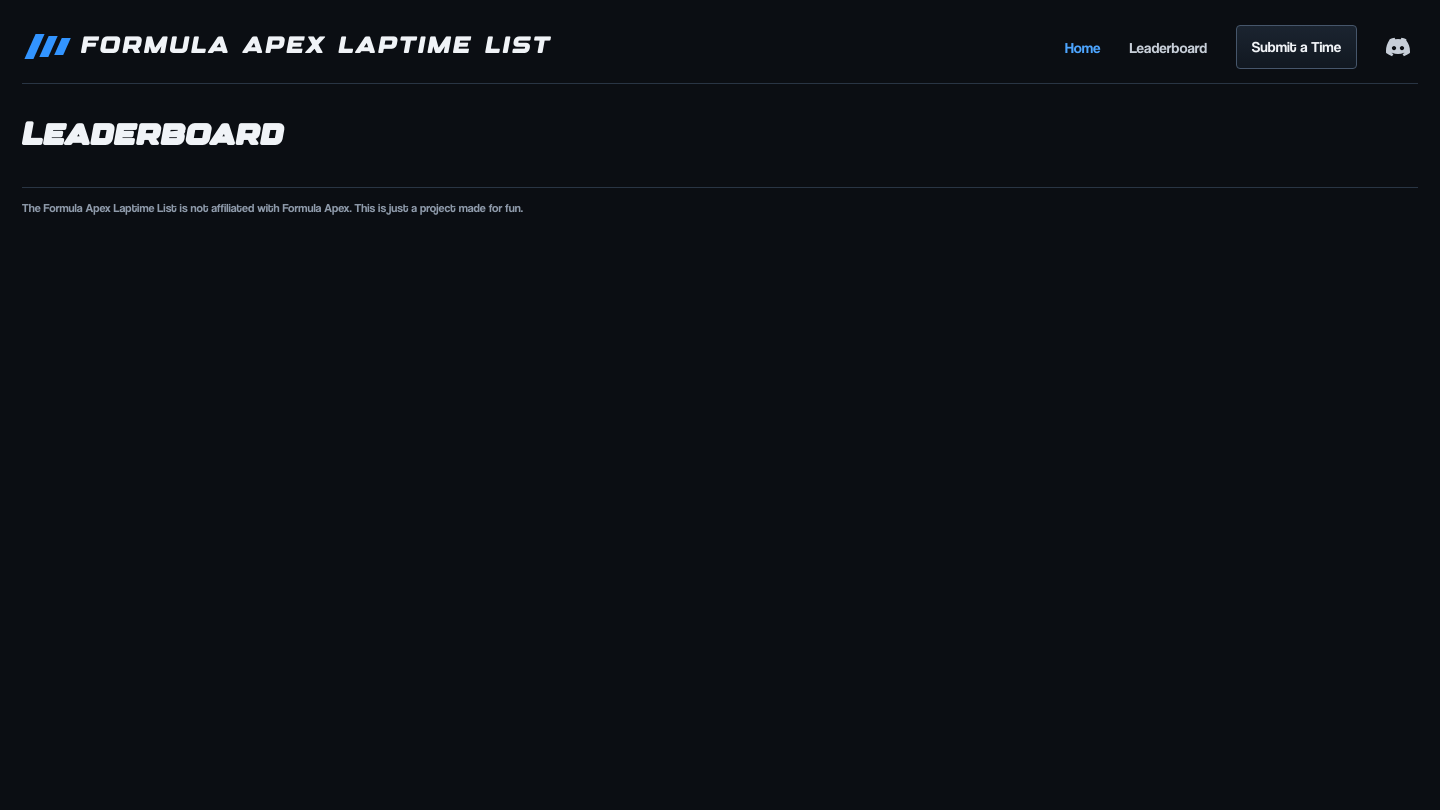
Test: submission flow › navigates from the site header to the submission guidelines
Click the link "Submit a Time" at (1296, 47), box [1236,25,1357,69]
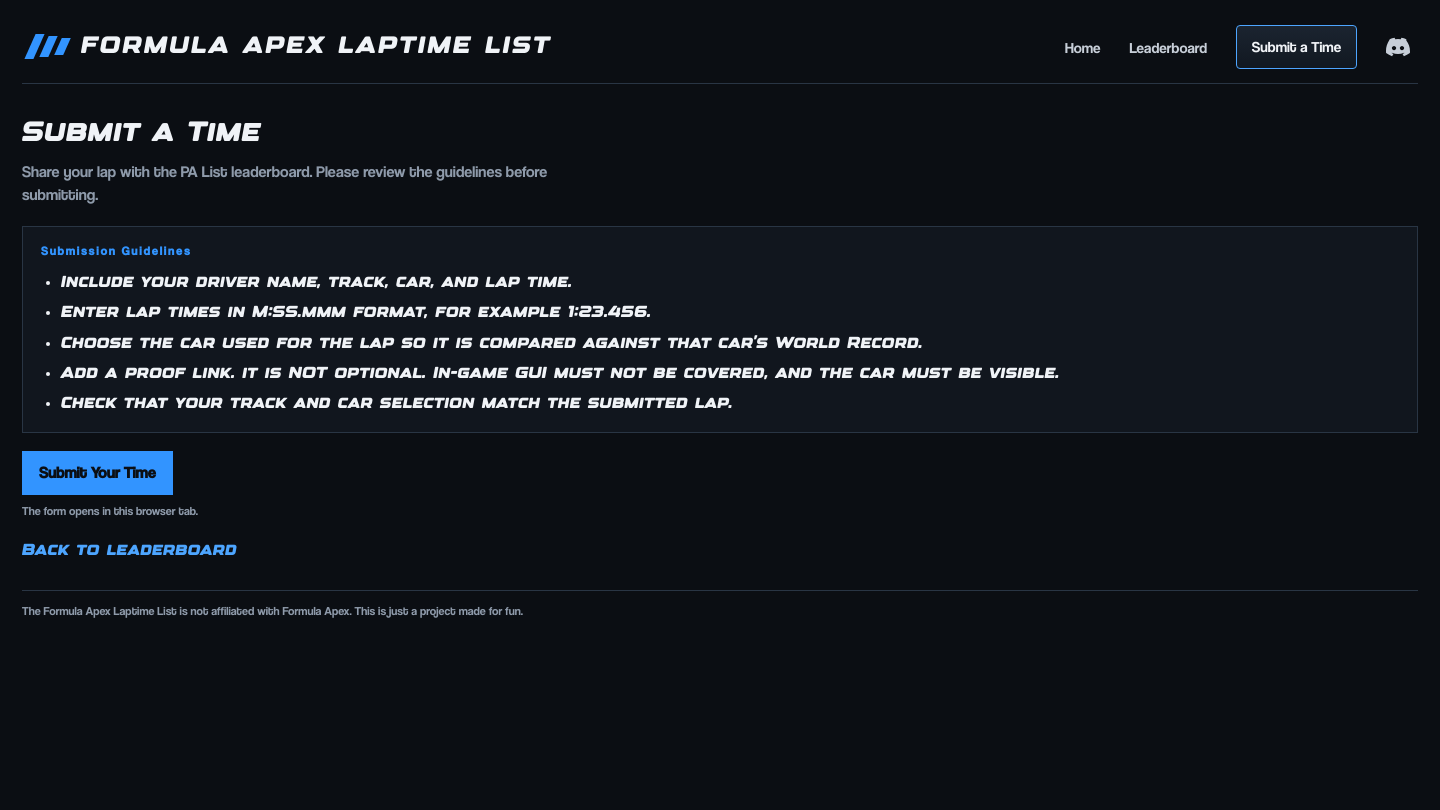
Expected: the heading "Submit a Time" is shown, [22,120,261,147]
Expected: the list item "Include your driver name, track, car, and lap time." is shown, [61,275,572,290]
